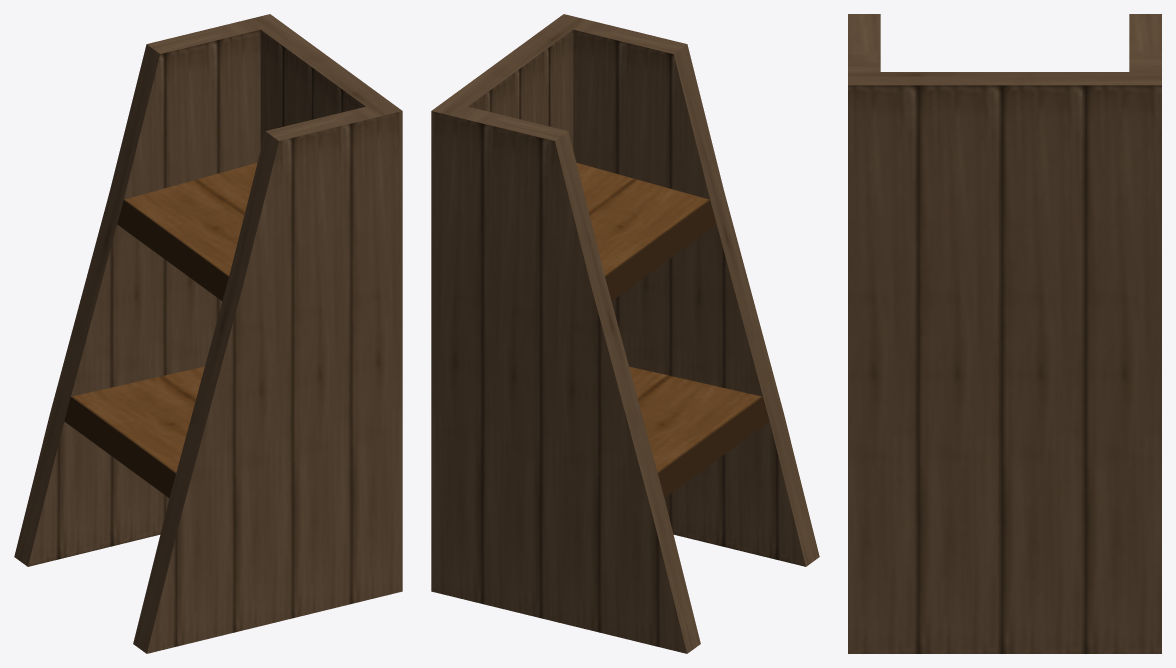
The model's file is Shelf_Small.fbx.
3 renders of one model, left to right at view 1: azimuth 30°, elevation 25°; view 2: azimuth 150°, elevation 25°; view 3: azimuth 270°, elevation 25°, orthographic. The views are drawn at different scales.
Visible parts, largest first — view 1: pCube644; view 2: pCube644; view 3: pCube644.
Boxes of the visible parts, <box> form: pCube644: <box>14,14,402,653</box>; pCube644: <box>431,14,819,653</box>; pCube644: <box>848,14,1161,653</box>.
Size of the model in its own units: 1.12 by 2 by 1.
